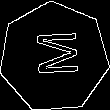M_W: (28, 33, 80, 82)
